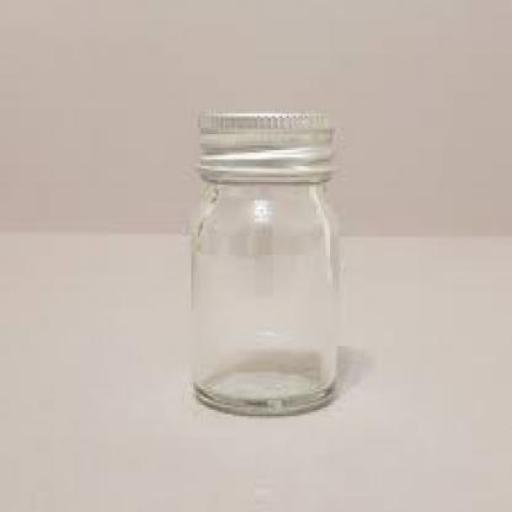glass: (189, 180, 334, 414)
metal: (196, 111, 330, 178)
